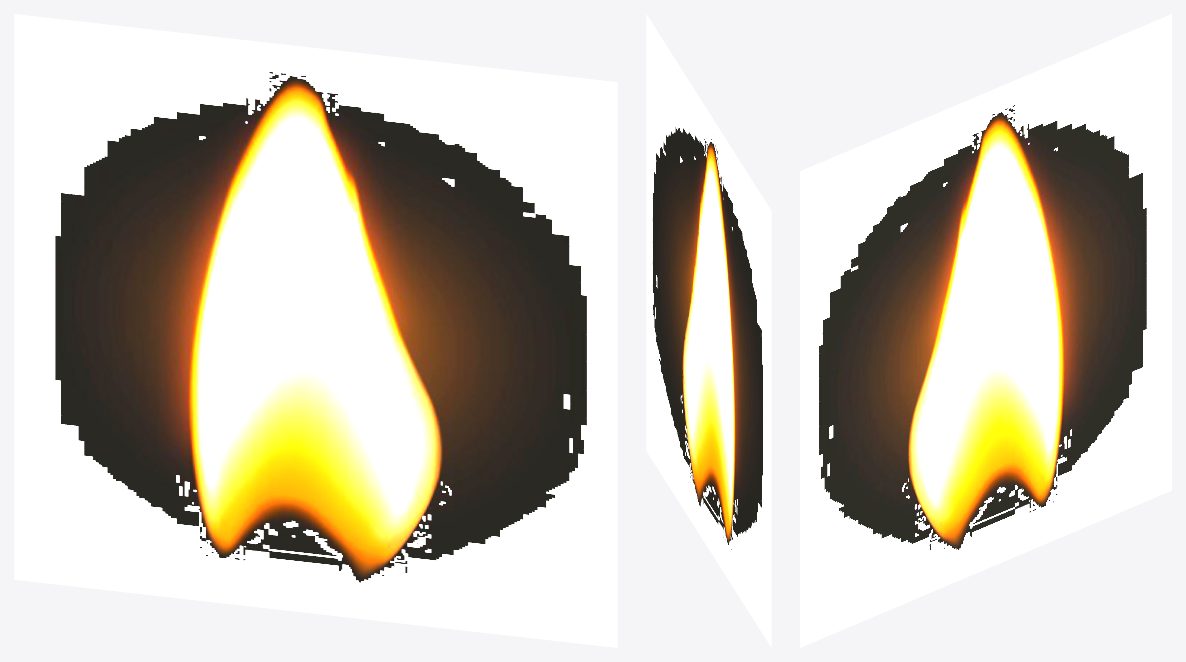
3 views of the same model, side by side, from view 1: azimuth 30°, elevation 25°; view 2: azimuth 150°, elevation 25°; view 3: azimuth 270°, elevation 25° (orthographic). The views are drawn at different scales.
Visible parts, largest first — view 1: _299; view 2: _299; view 3: _299.
Boxes of the visible parts, box(x1,y1,x2,y2) form: _299: box(14, 14, 617, 647); _299: box(646, 14, 771, 647); _299: box(800, 14, 1171, 647).
Size of the model in its own units: 7.93 by 11.21 by 7.92.
